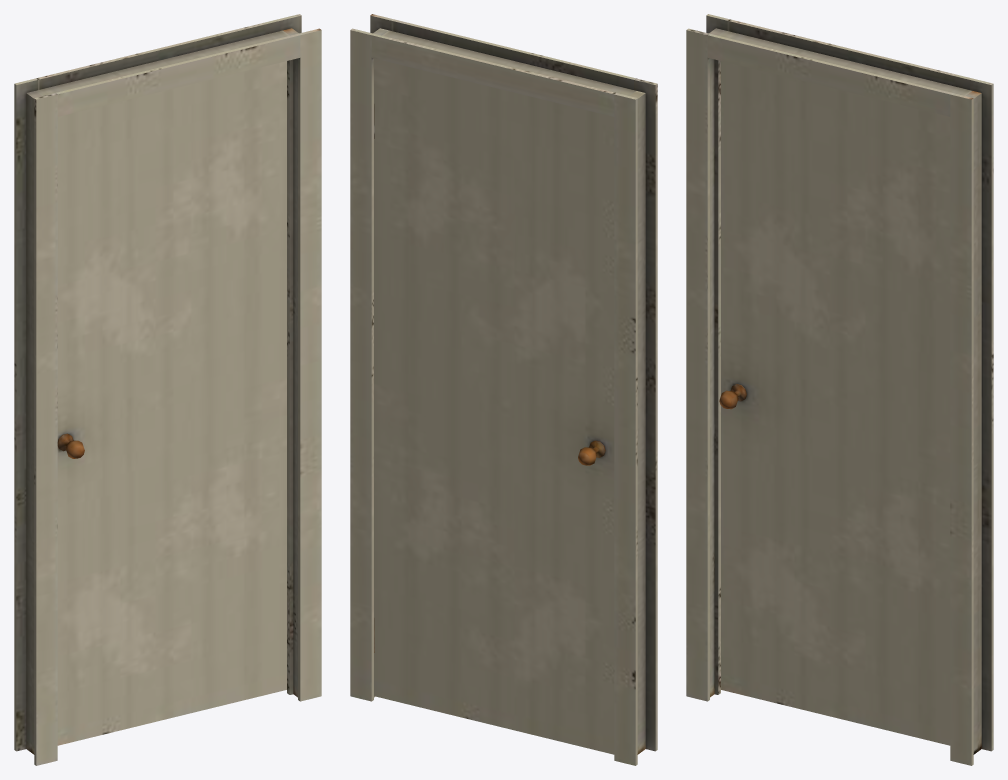
File: door_flat_lod1_web.glb
The picture shows the model from 3 angles, left to right: view 1: azimuth 30°, elevation 25°; view 2: azimuth 150°, elevation 25°; view 3: azimuth 330°, elevation 25°; orthographic projection.
Visible parts, largest first — view 1: Door_Mesh, DoorFlat_Frame; view 2: Door_Mesh, DoorFlat_Frame; view 3: Door_Mesh, DoorFlat_Frame.
Part boxes in pixels (box(x1,y1,x2,y2)): Door_Mesh: box(57, 61, 286, 745); DoorFlat_Frame: box(14, 14, 321, 765); Door_Mesh: box(374, 58, 614, 754); DoorFlat_Frame: box(350, 14, 657, 765); Door_Mesh: box(719, 61, 950, 745); DoorFlat_Frame: box(686, 14, 993, 765).
Size of the model in its own units: 0.93 by 2.07 by 0.212.
1 material, 1 textured.
